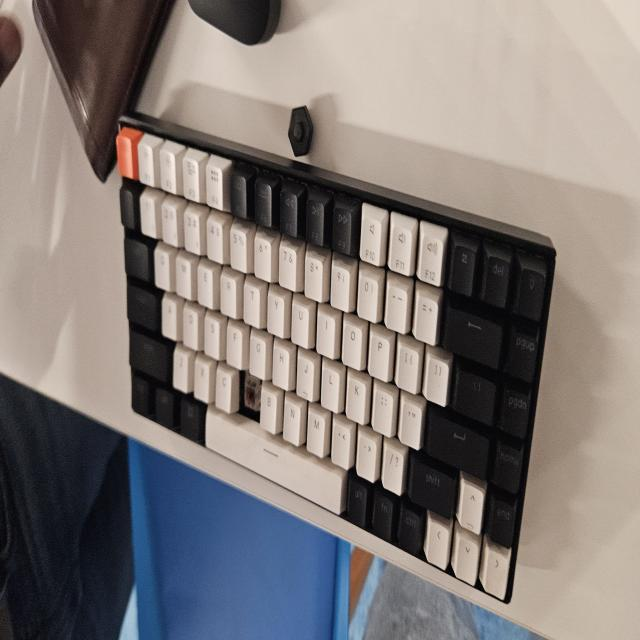C: (242, 378, 255, 415)
